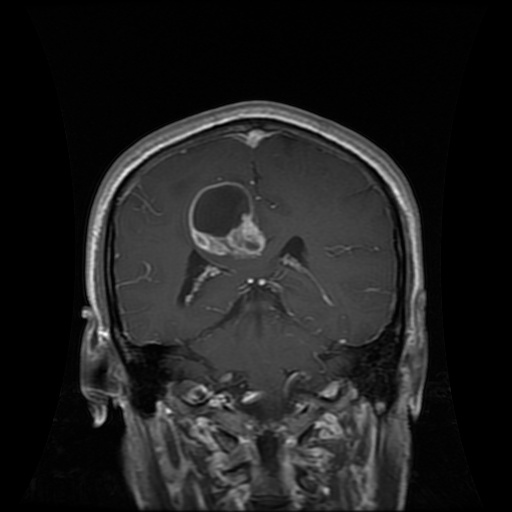glioma: (185, 179, 270, 261)
